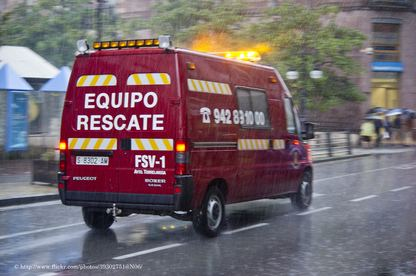ambulance: (59, 35, 318, 235)
